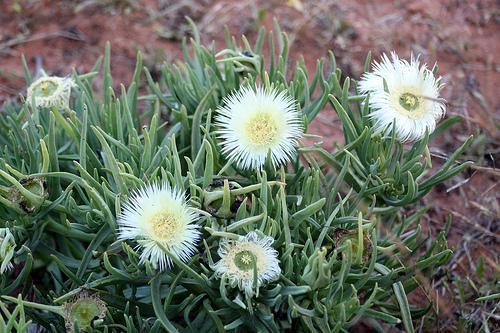daisy: (354, 53, 453, 144), (214, 80, 305, 173), (115, 183, 202, 271), (208, 229, 283, 294), (22, 73, 79, 116), (26, 76, 73, 112)
